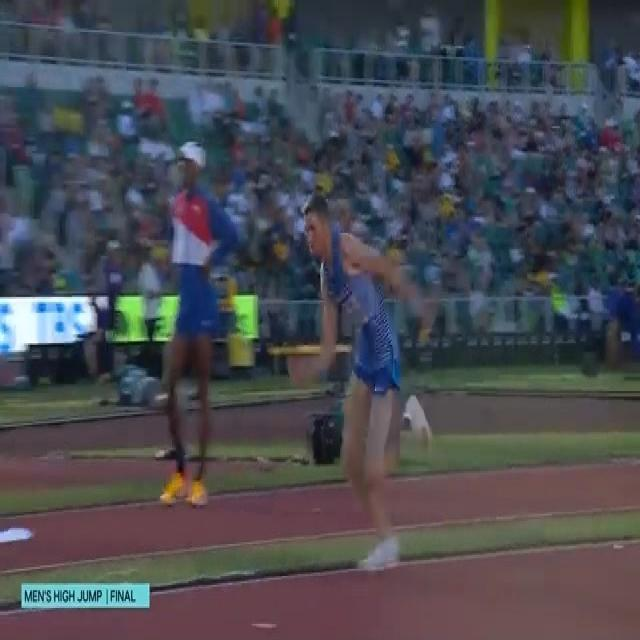run: (288, 195, 432, 570)
